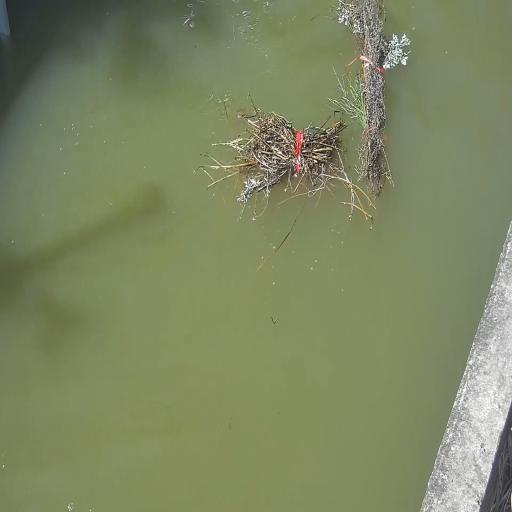twig: (223, 100, 358, 216), (342, 0, 412, 196)
